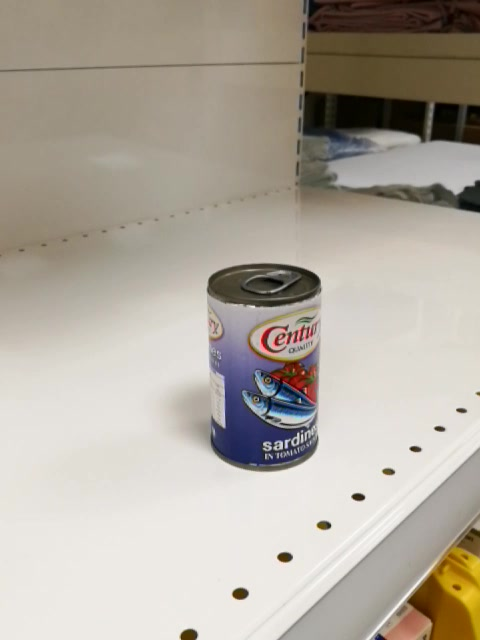sardine: (205, 263, 324, 472)
